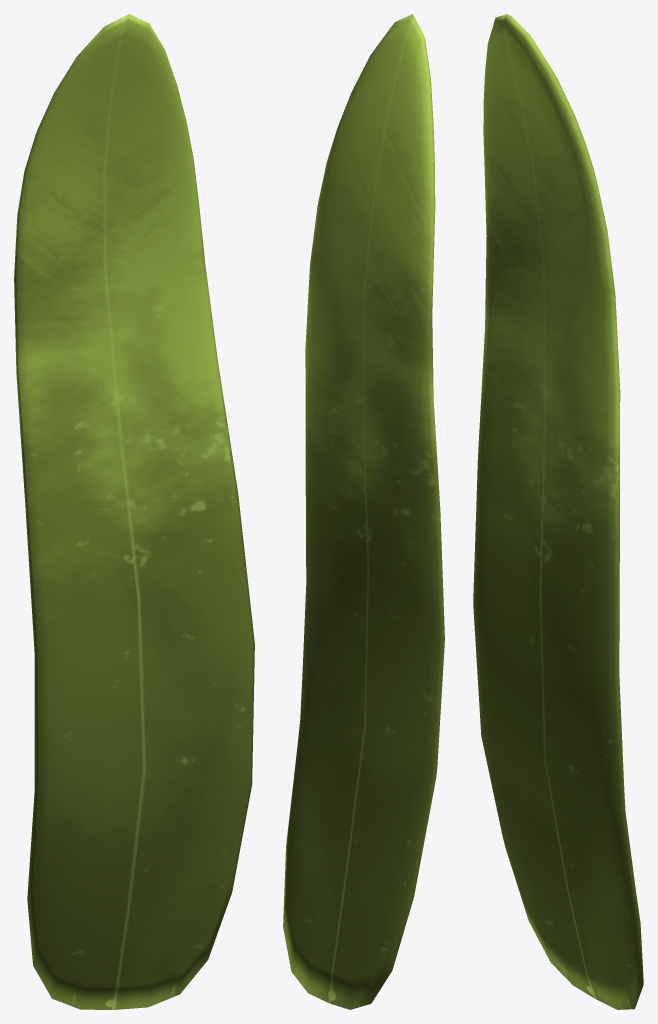
The model's file is Grass.fbx.
3 renders of one model, left to right at view 1: azimuth 30°, elevation 25°; view 2: azimuth 150°, elevation 25°; view 3: azimuth 330°, elevation 25°, orthographic. The views are drawn at different scales.
Parts seen in each view (by area): view 1: Grass; view 2: Grass; view 3: Grass.
Part boxes in pixels (<box>): Grass: <box>14,14,254,1009</box>; Grass: <box>283,14,444,1009</box>; Grass: <box>473,14,643,1009</box>.
Size of the model in its own units: 26.13 by 137 by 15.99.
